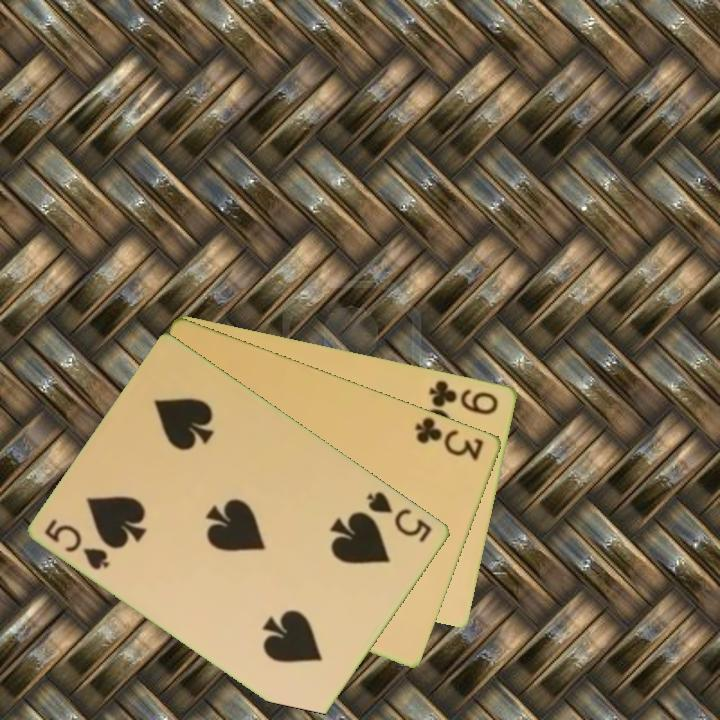3c: (412, 413, 487, 464)
5s: (363, 487, 436, 546), (41, 515, 114, 573)
9c: (426, 376, 502, 418)
